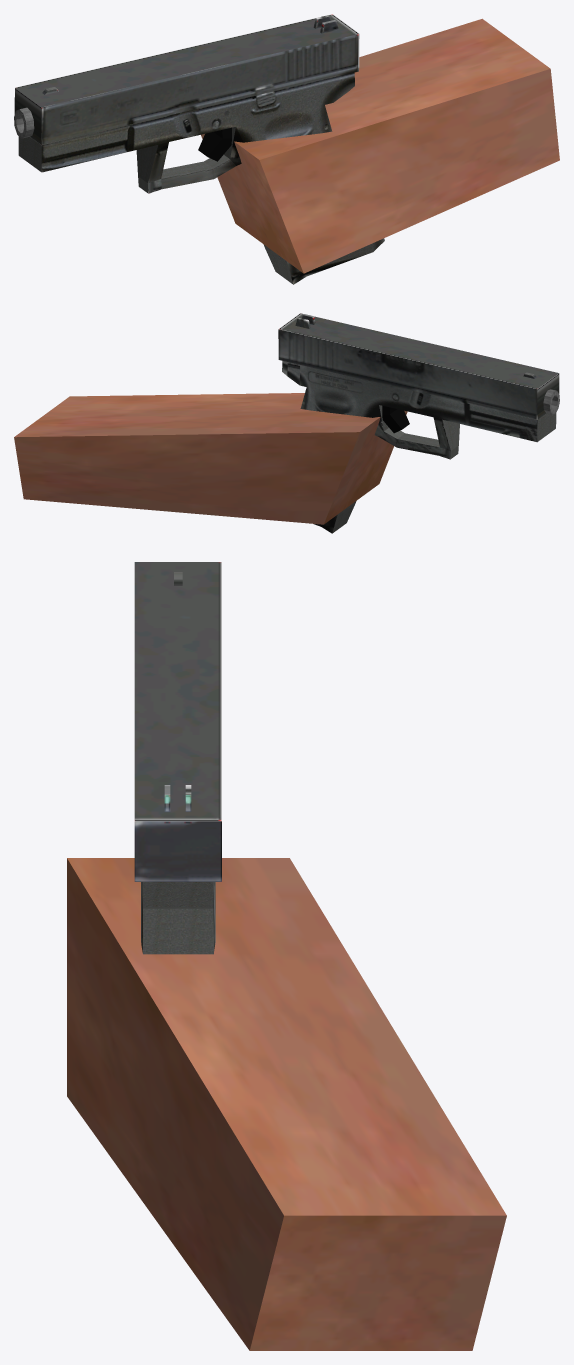
File: pistol_000015.obj
3 views of the same model, one above another, from view 1: azimuth 30°, elevation 25°; view 2: azimuth 150°, elevation 25°; view 3: azimuth 270°, elevation 25° (orthographic). The views are drawn at different scales.
Parts seen in each view (by area): view 1: Cube, Cube.001, Cube.003; view 2: Cube, Cube.001, Cube.003; view 3: Cube, Cube.001.
Part boxes in pixels (bbox=[...]): Cube: bbox=[14, 18, 559, 284]; Cube.001: bbox=[14, 14, 359, 144]; Cube.003: bbox=[198, 127, 231, 161]; Cube: bbox=[14, 361, 559, 533]; Cube.001: bbox=[278, 313, 559, 419]; Cube.003: bbox=[382, 405, 409, 433]; Cube: bbox=[67, 858, 506, 1350]; Cube.001: bbox=[134, 562, 221, 881].
Size of the model in its own units: 1.74 by 0.7332 by 0.7214.
